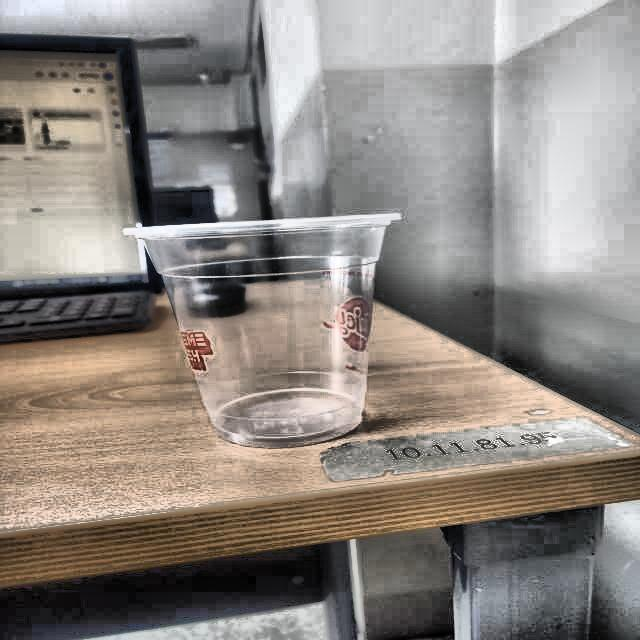plastic cup: (122, 212, 404, 446)
